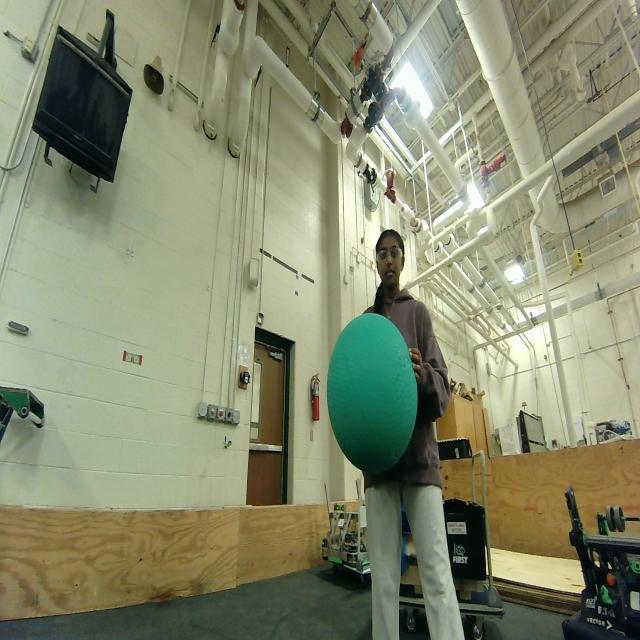algae: (327, 316, 417, 474)
